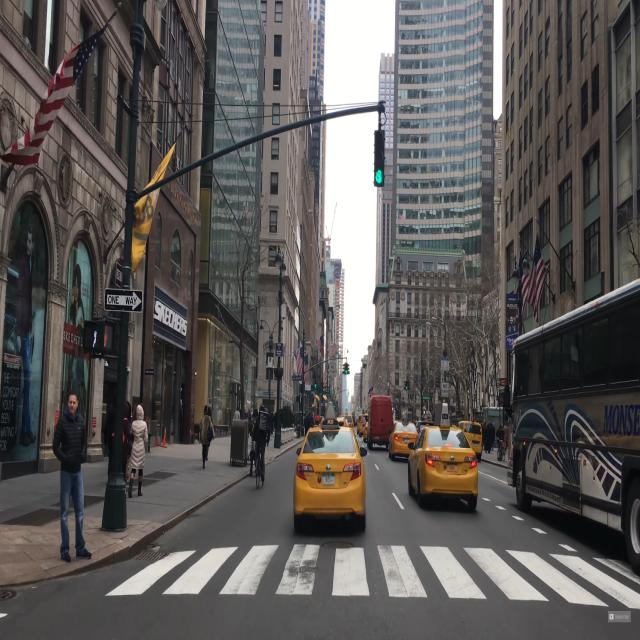Crosswalk: (104, 542, 640, 607)
